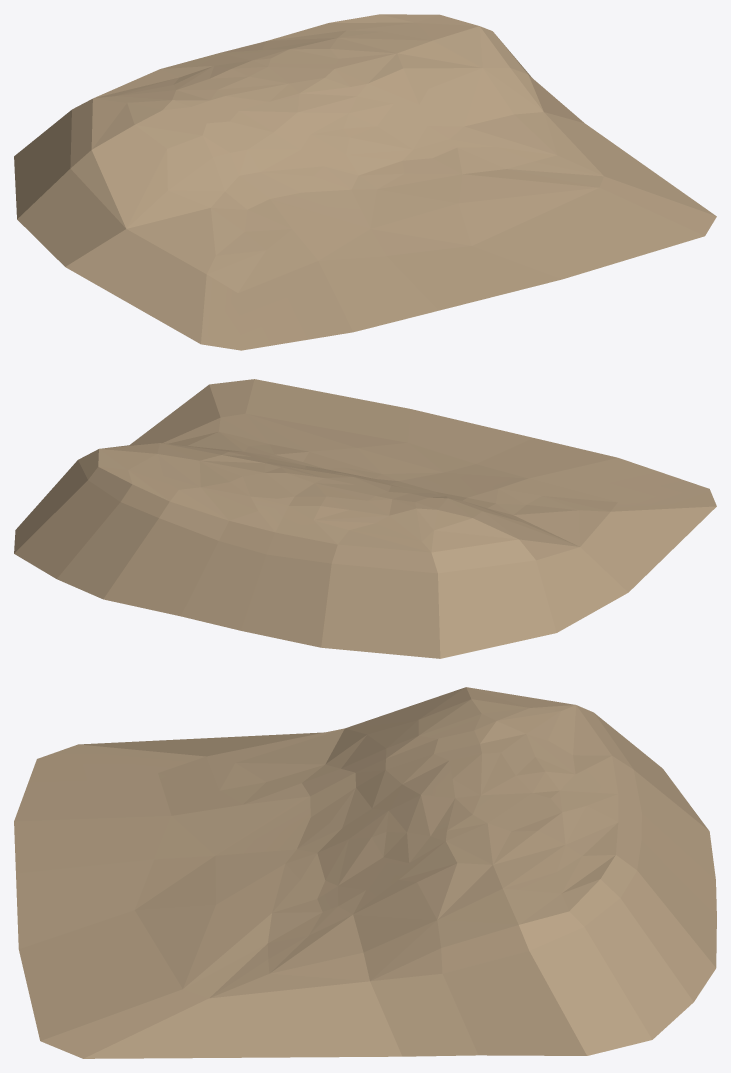
The model's file is env_river_edge.gltf.
The picture shows the model from 3 angles, top to bottom: view 1: azimuth 30°, elevation 25°; view 2: azimuth 150°, elevation 25°; view 3: azimuth 270°, elevation 25°; orthographic projection. The views are drawn at different scales.
Parts seen in each view (by area): view 1: env_river_edge; view 2: env_river_edge; view 3: env_river_edge.
Boxes of the visible parts, x1=… form: env_river_edge: x1=14, y1=14, x2=716, y2=350; env_river_edge: x1=14, y1=379, x2=716, y2=658; env_river_edge: x1=14, y1=687, x2=716, y2=1058.
Size of the model in its own units: 14.36 by 2.21 by 13.
Materials: 1 (1 with a texture image).
